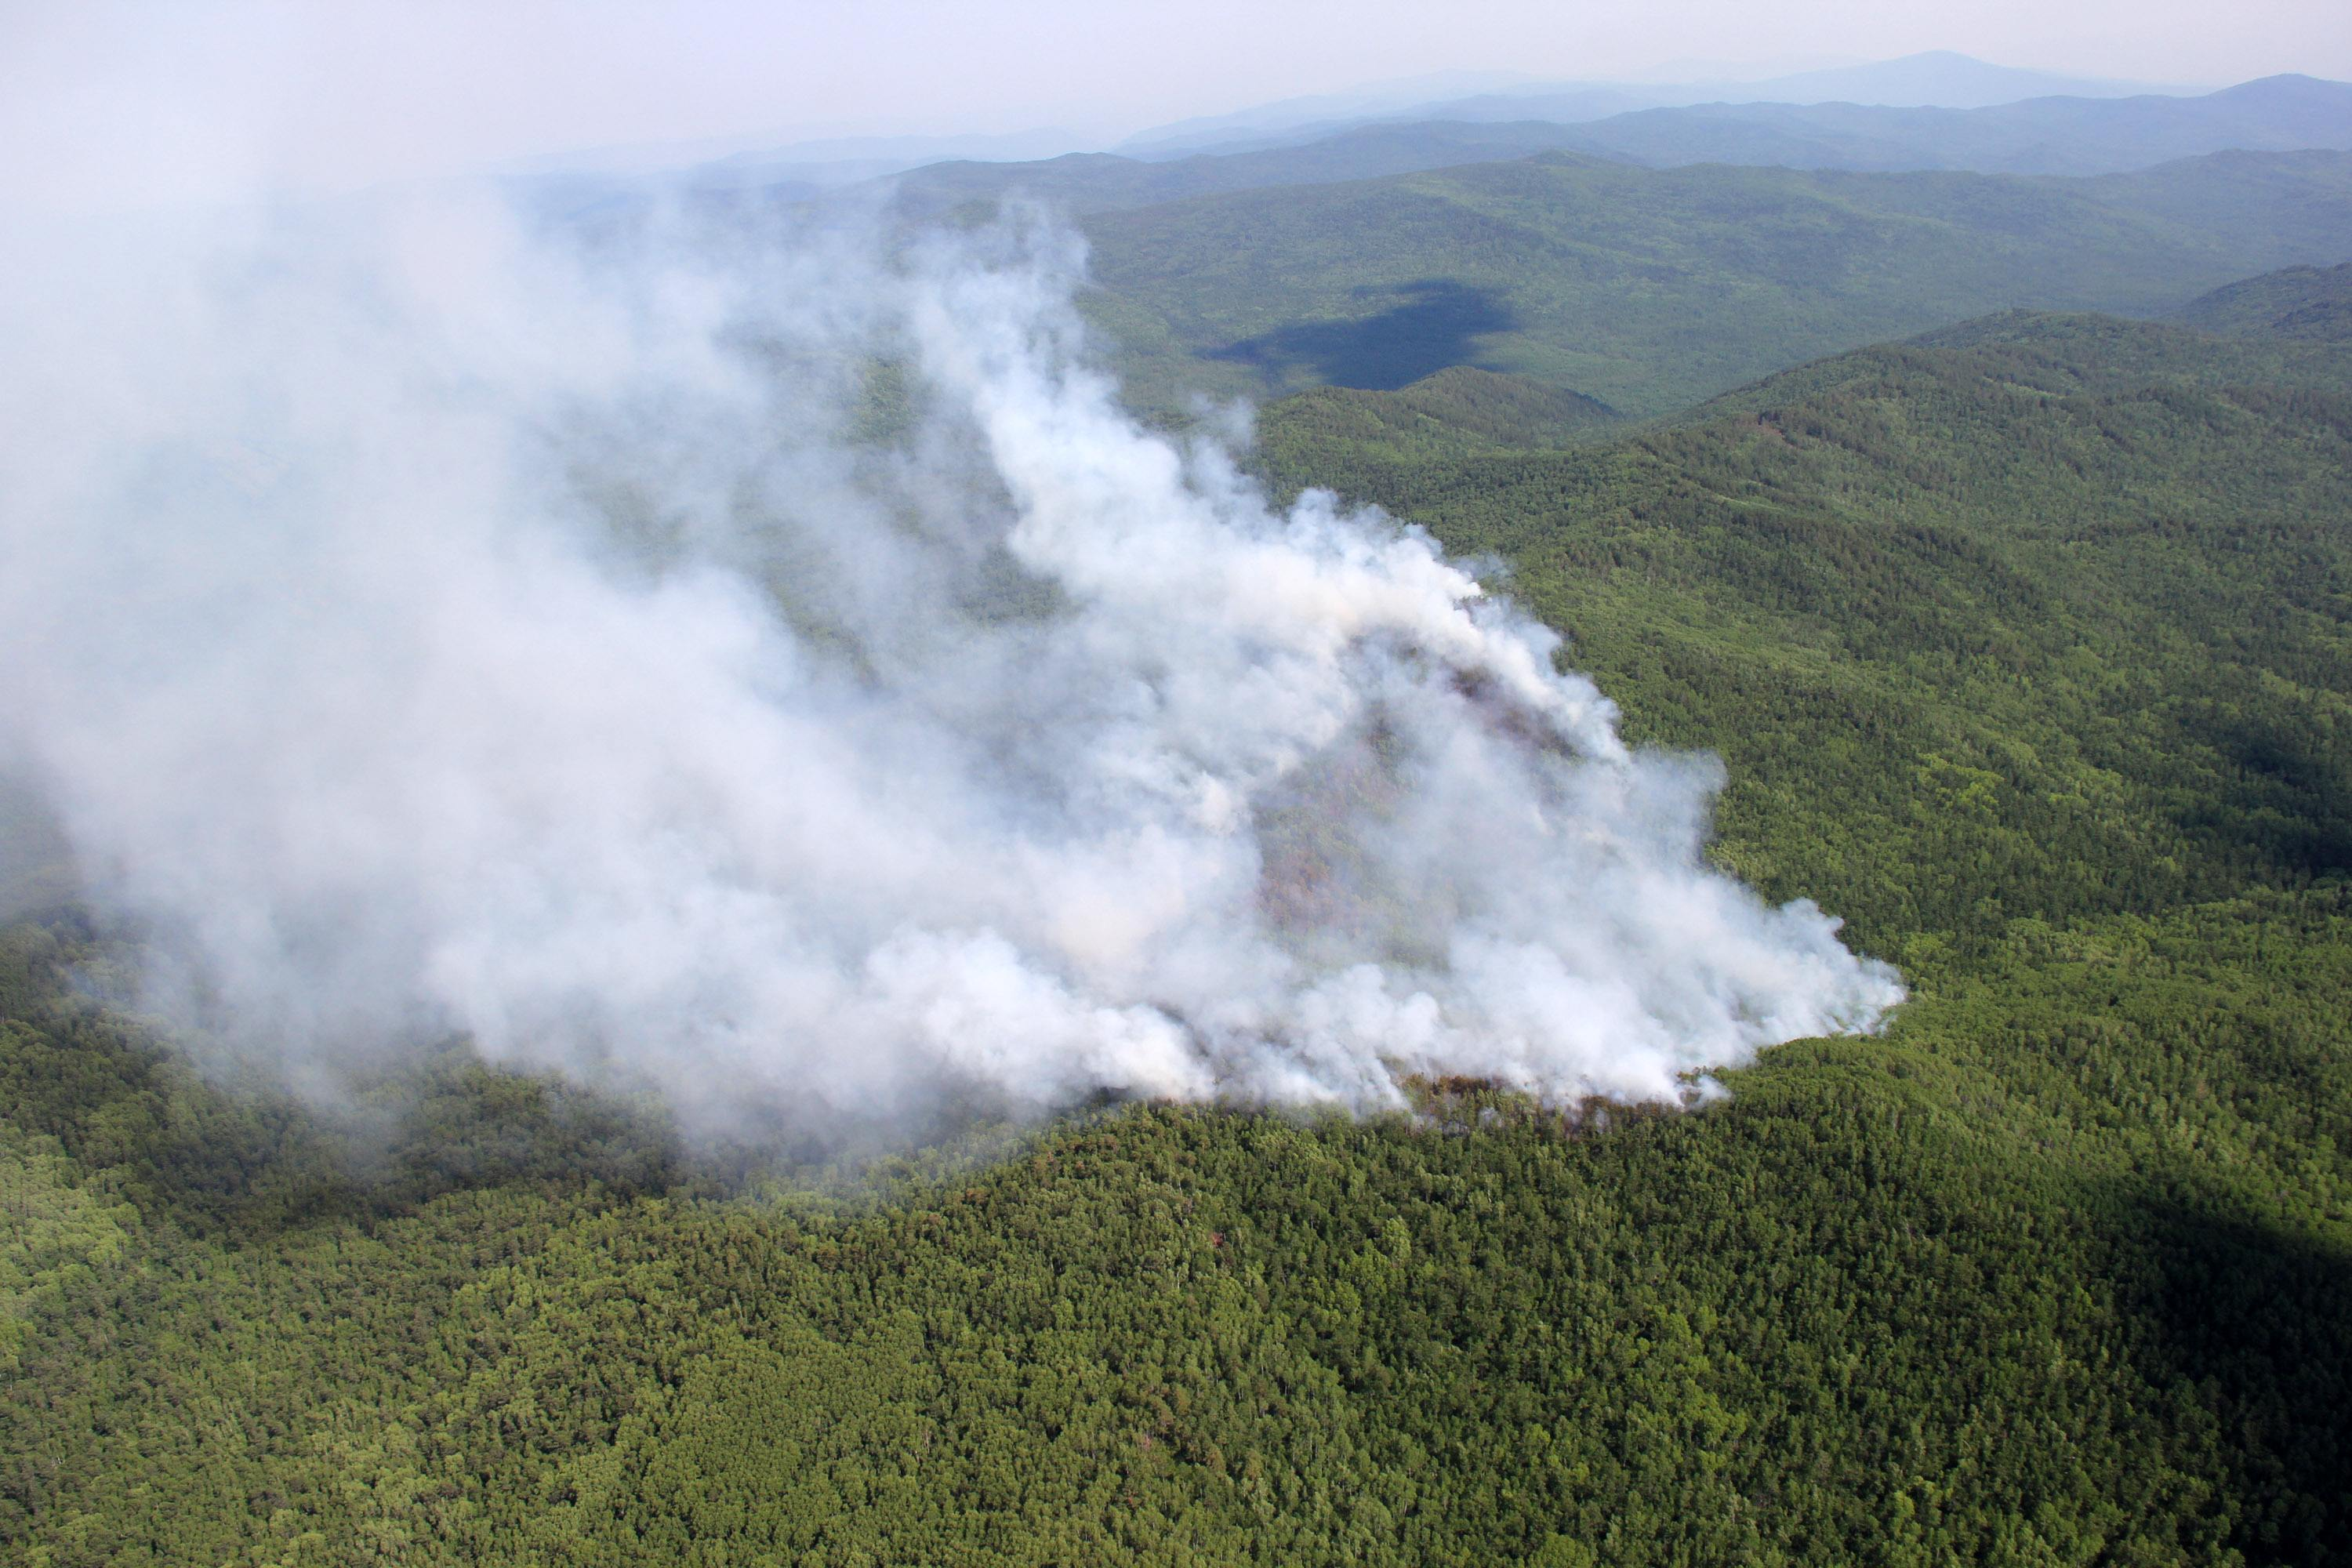yanwu: (0, 0, 1913, 1174)
